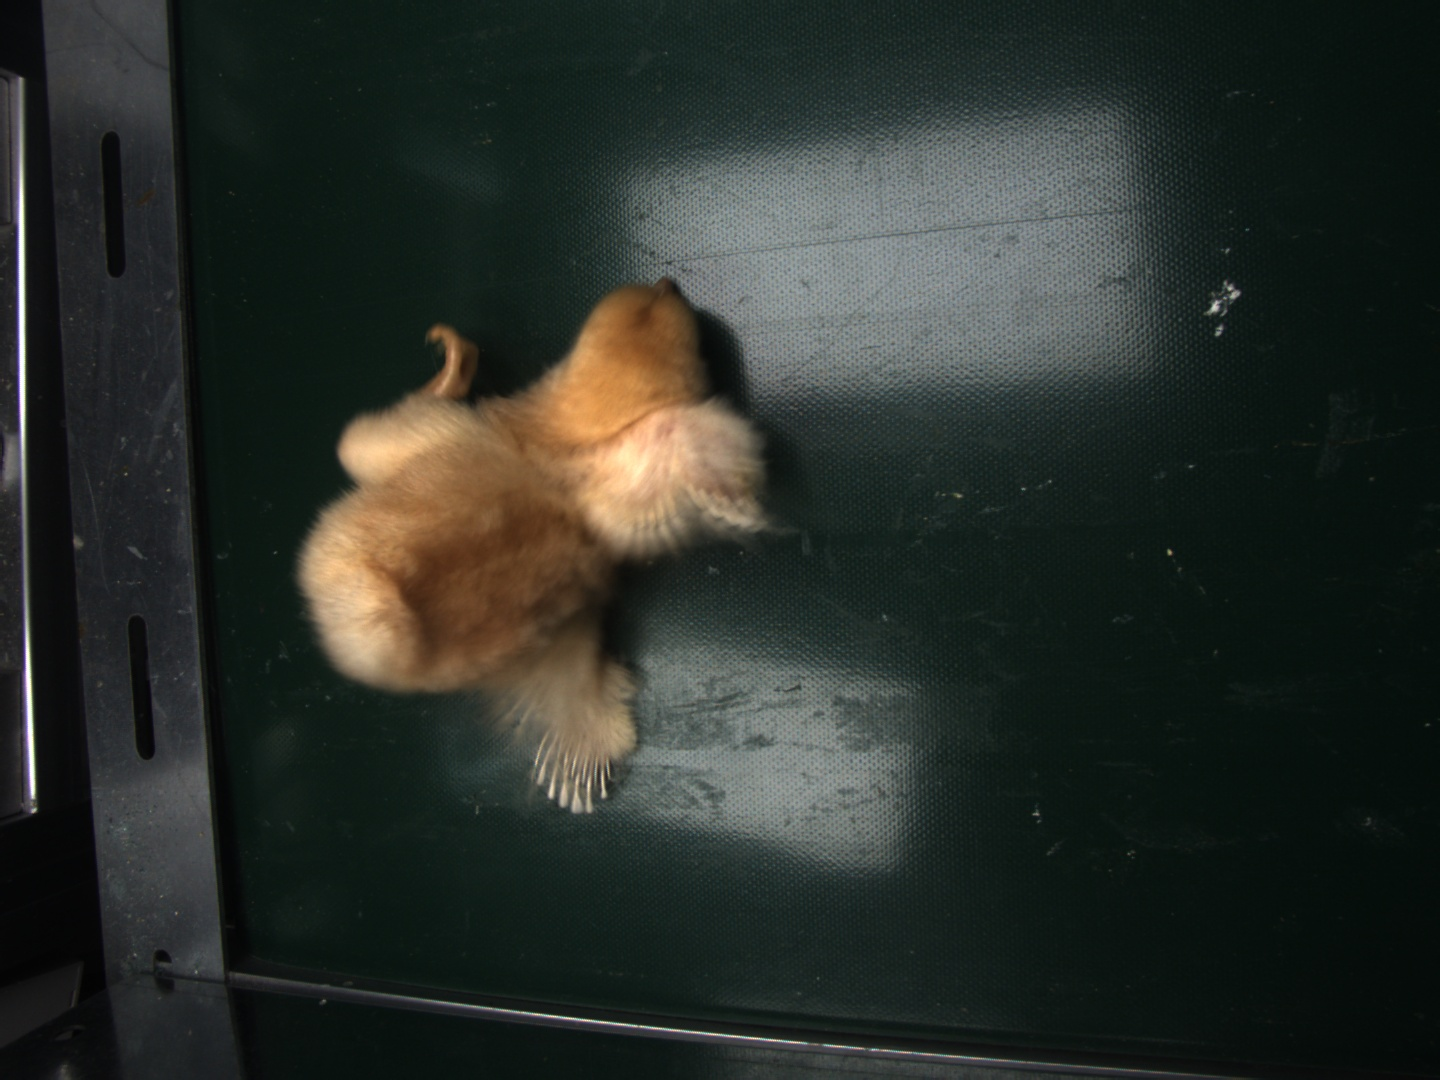female: (537, 736, 612, 815)
